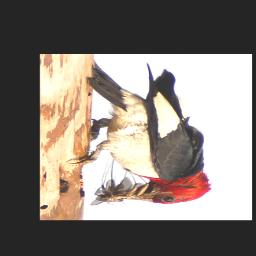Woodpecker: (68, 61, 211, 204)
